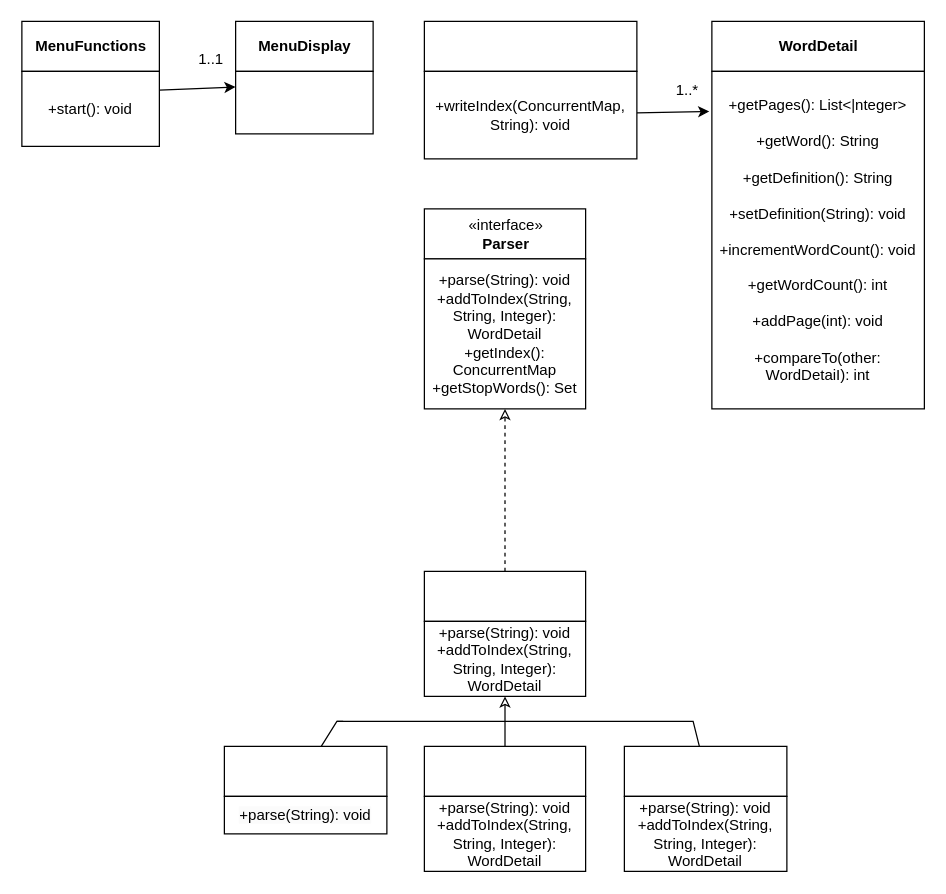
The diagram is 946 pixels wide and 894 high, and some of its shapes have lost their labels. The shapes that lost their labels are listed below. From the top down, each one's box as (x1, y1, x2, y2) in pixels, then its label:
(423, 20, 637, 71): IndexOutputter
(234, 70, 373, 134): +displayOptions(): void
(423, 570, 586, 621): AbstractParser
(223, 745, 387, 796): StopWordsParser
(423, 745, 586, 796): EBookParser
(623, 745, 787, 796): DictionaryParser
